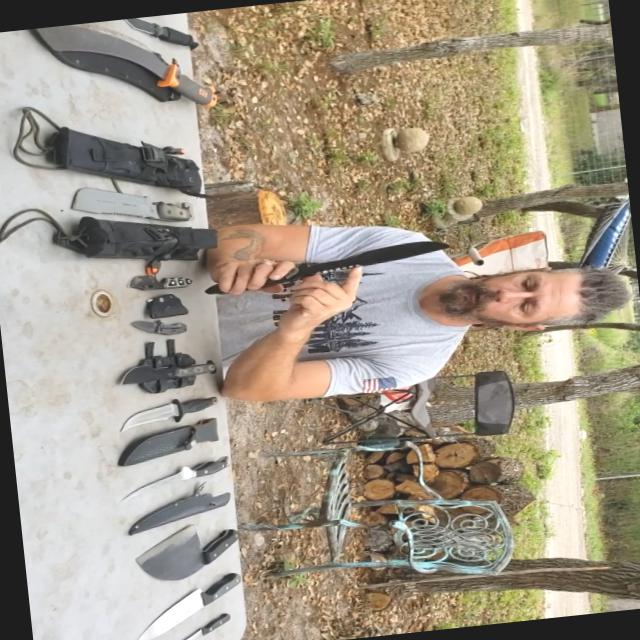knife: (38, 9, 234, 120), (207, 230, 460, 304), (61, 165, 207, 243), (123, 562, 262, 639), (130, 519, 252, 585), (111, 384, 250, 434), (126, 446, 240, 504), (116, 9, 217, 64), (114, 352, 227, 398), (115, 260, 212, 298), (118, 307, 202, 344), (169, 608, 247, 639)
